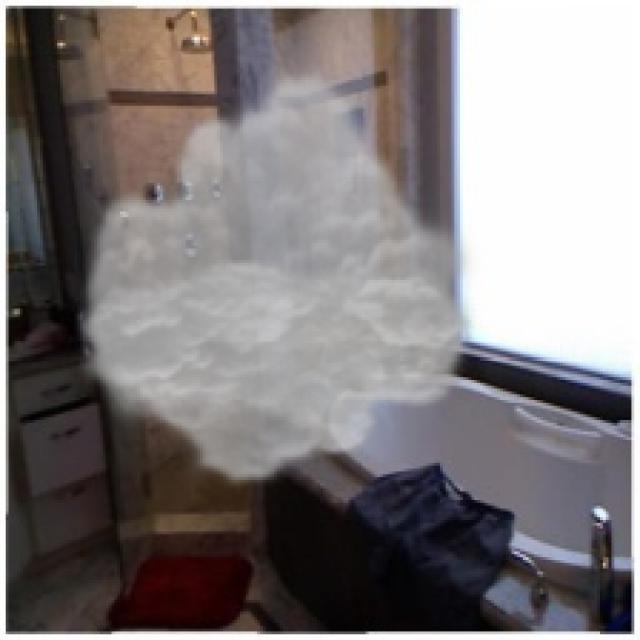Smoke: (68, 62, 483, 488)
